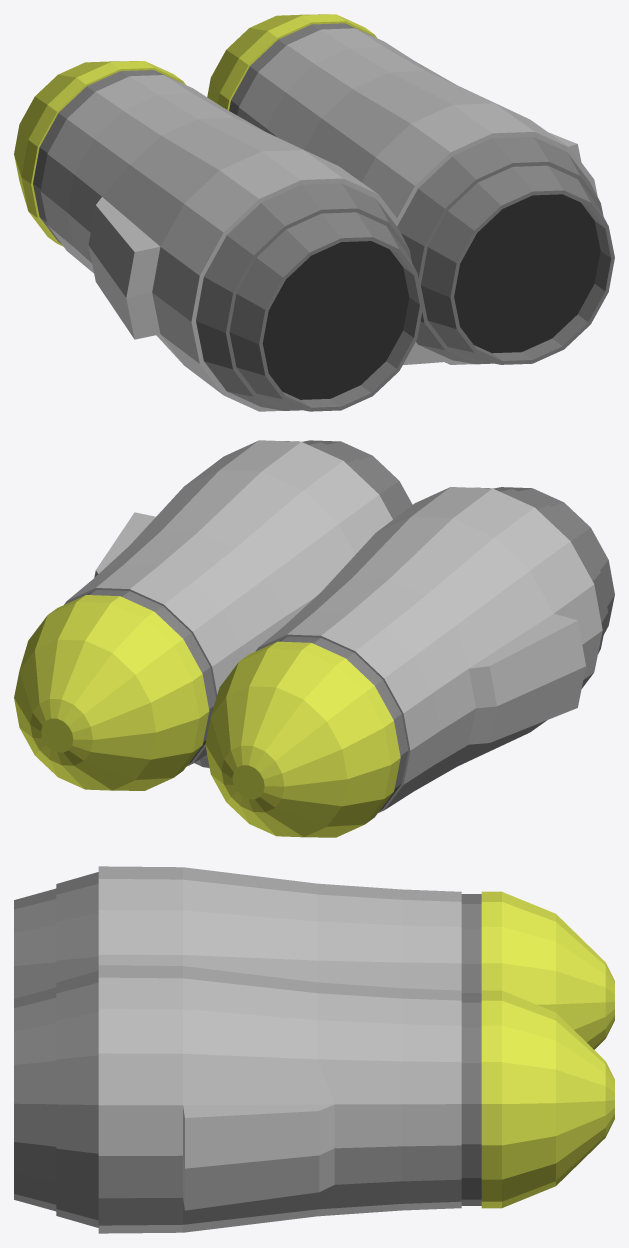
The model's file is jetpack.fbx.
3 renders of one model, top to bottom at view 1: azimuth 30°, elevation 25°; view 2: azimuth 150°, elevation 25°; view 3: azimuth 270°, elevation 25°, orthographic. The views are drawn at different scales.
Visible parts, largest first — view 1: Cylinder; view 2: Cylinder; view 3: Cylinder.
Boxes of the visible parts, x1,y1,x2,y2 form: Cylinder: (14,14,614,411); Cylinder: (14,440,614,837); Cylinder: (14,866,614,1233).
Size of the model in its own units: 142 by 67.72 by 151.
